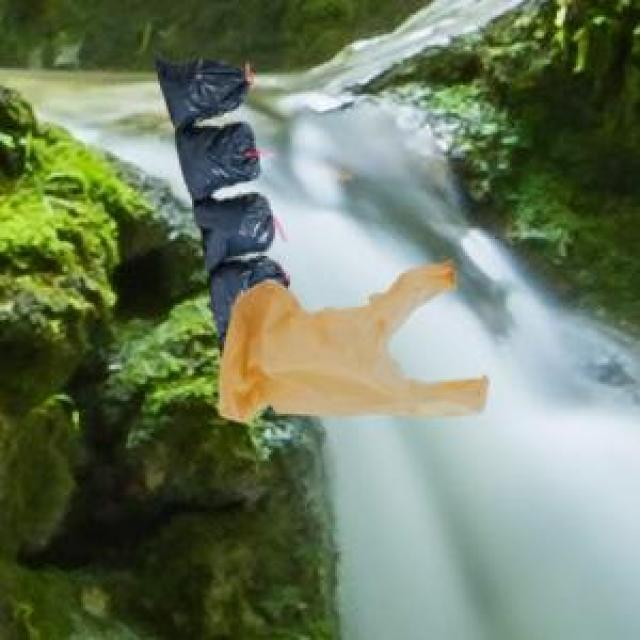miscellaneous trash: (153, 49, 286, 352)
